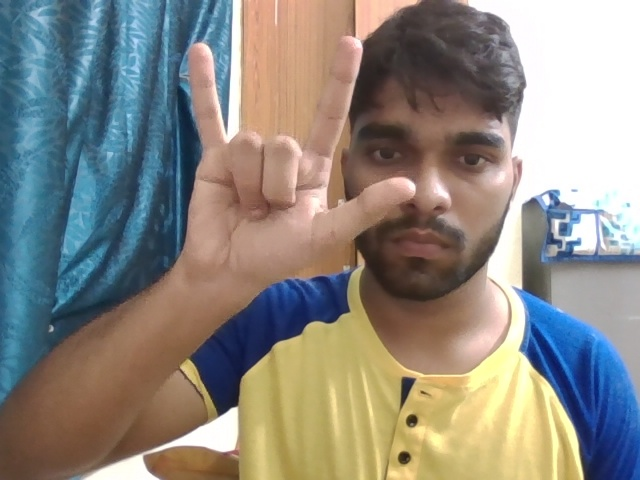I love you: (165, 30, 429, 322)
